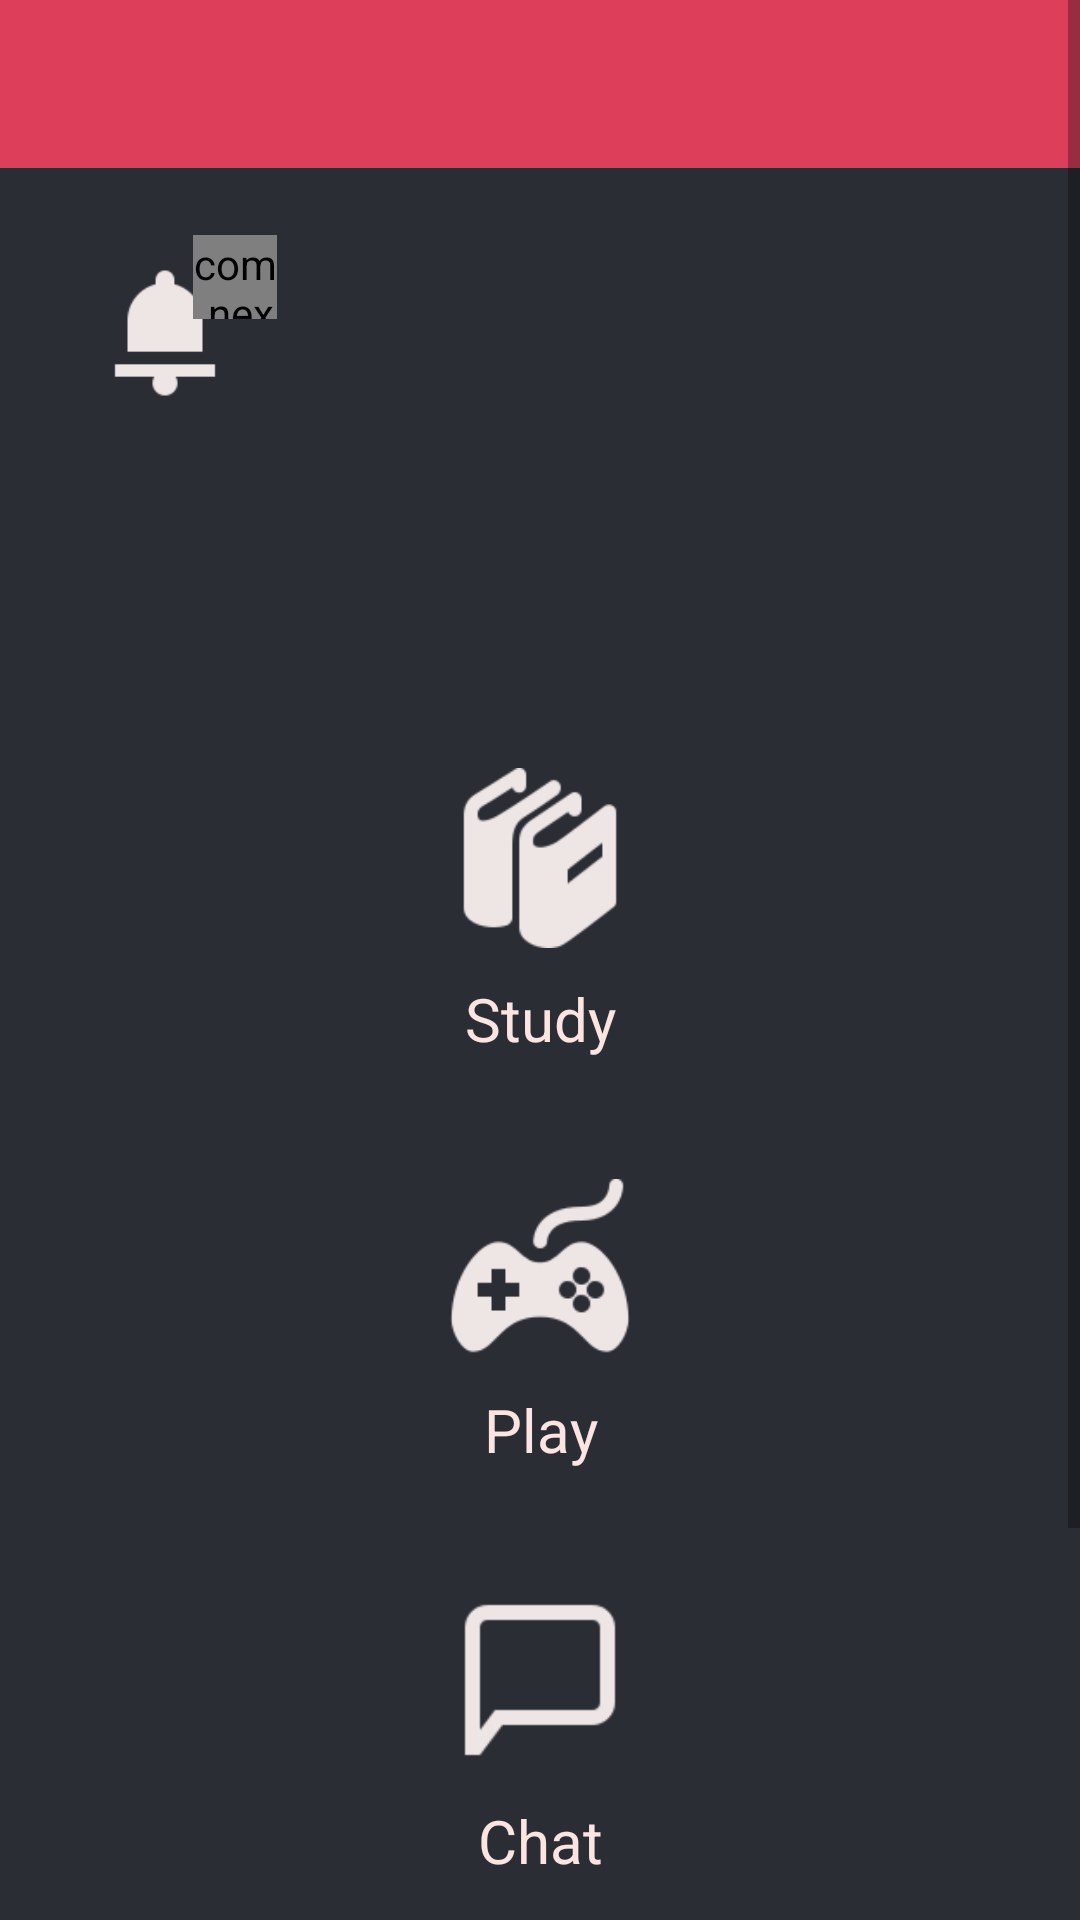

Named icons in this screenshot (1080w x 1920h) and their bounding boxes, [x1, y1, x2, y2]:
game: [451, 1179, 629, 1353]
